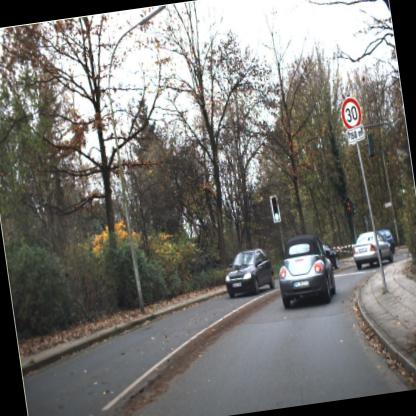prohibitory: (336, 94, 367, 130)
